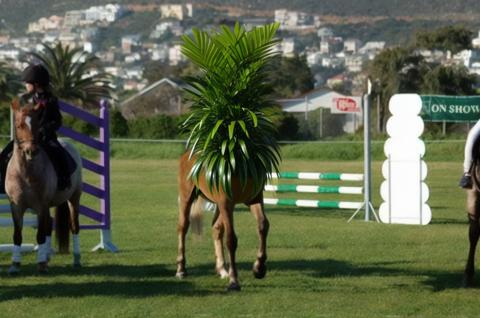horse: (176, 103, 280, 291), (7, 99, 84, 276)
person: (2, 66, 77, 191)
pottedplant: (180, 21, 281, 203)
